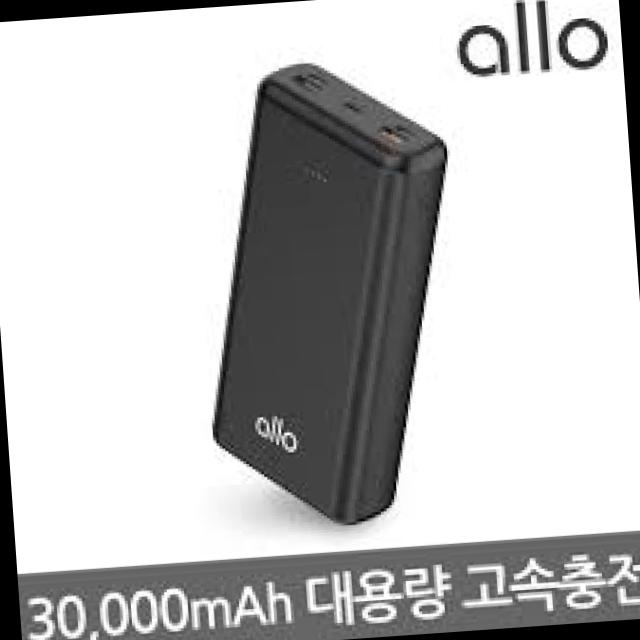power_bank: (187, 49, 483, 534)
